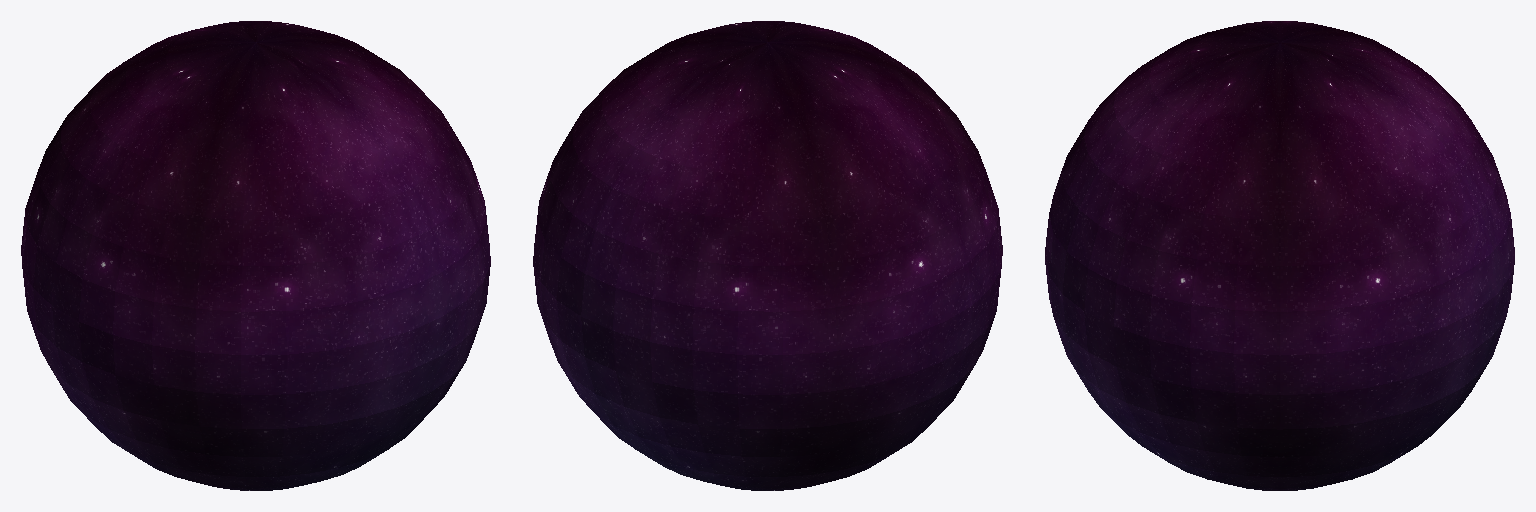
The picture shows the model from 3 angles: view 1: azimuth 30°, elevation 25°; view 2: azimuth 150°, elevation 25°; view 3: azimuth 270°, elevation 25°; orthographic projection.
Visible parts, largest first — view 1: 球; view 2: 球; view 3: 球.
Part boxes in pixels (bbox=[...]): 球: bbox=[21, 21, 490, 490]; 球: bbox=[533, 21, 1002, 490]; 球: bbox=[1045, 21, 1514, 490].
Size of the model in its own units: 2 by 2 by 2.
Materials: 1 (1 with a texture image).